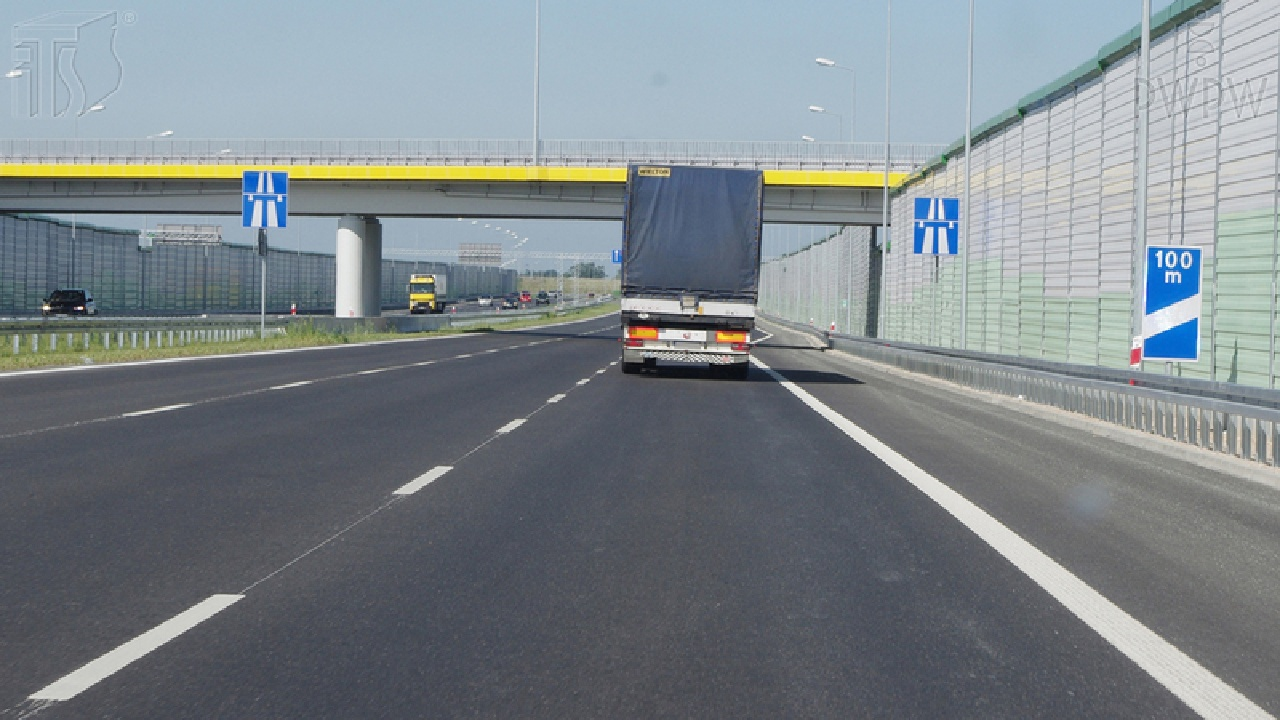D9: (243, 170, 287, 228), (913, 198, 958, 254)
